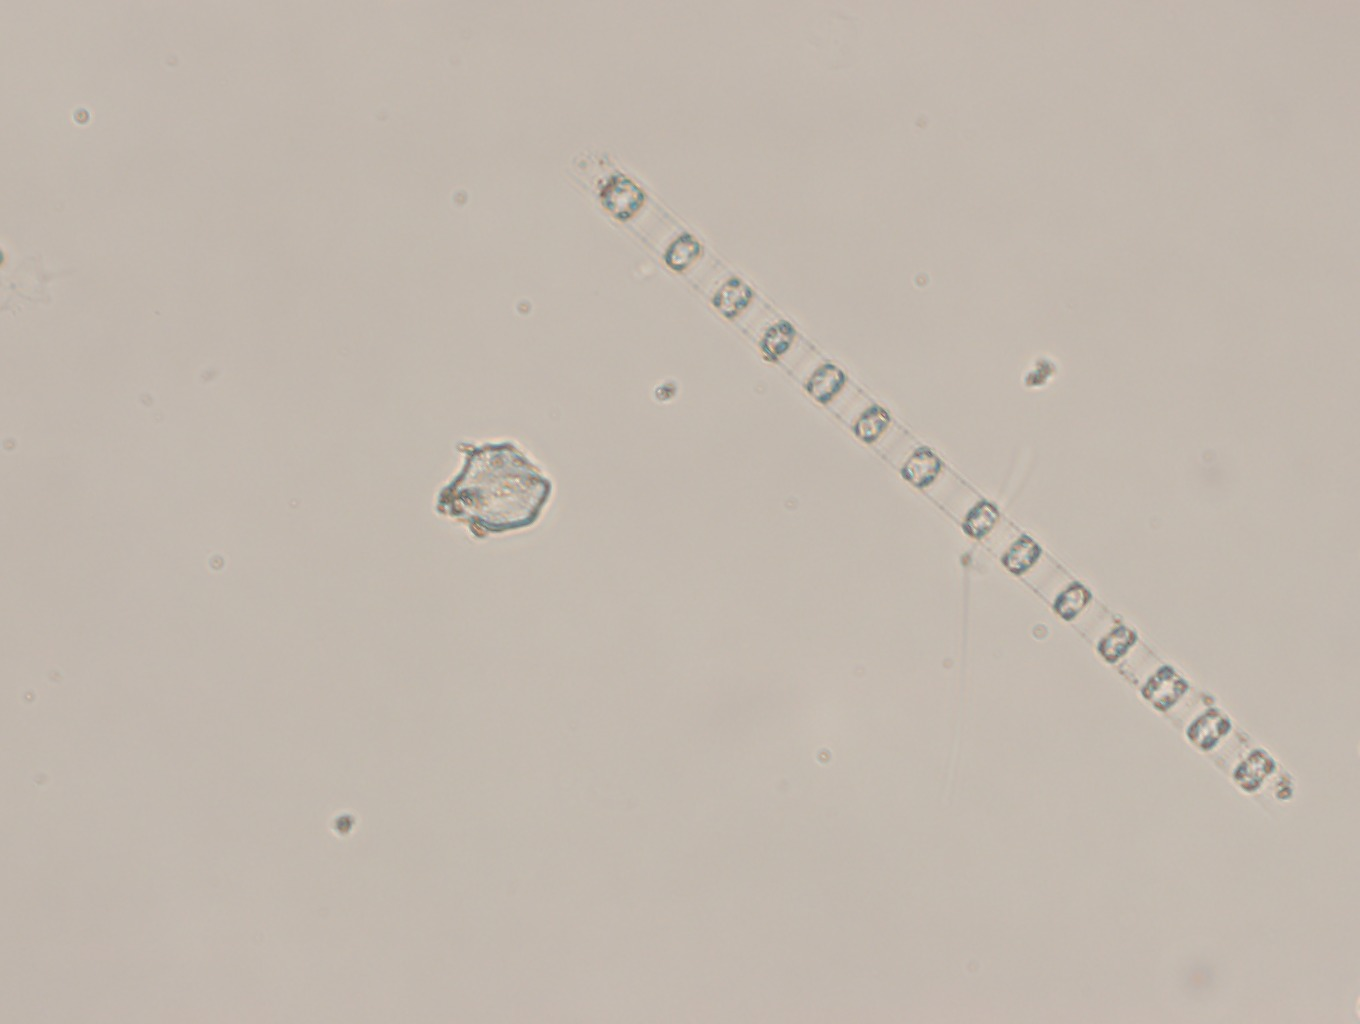skeletonema: (566, 144, 1287, 810)
